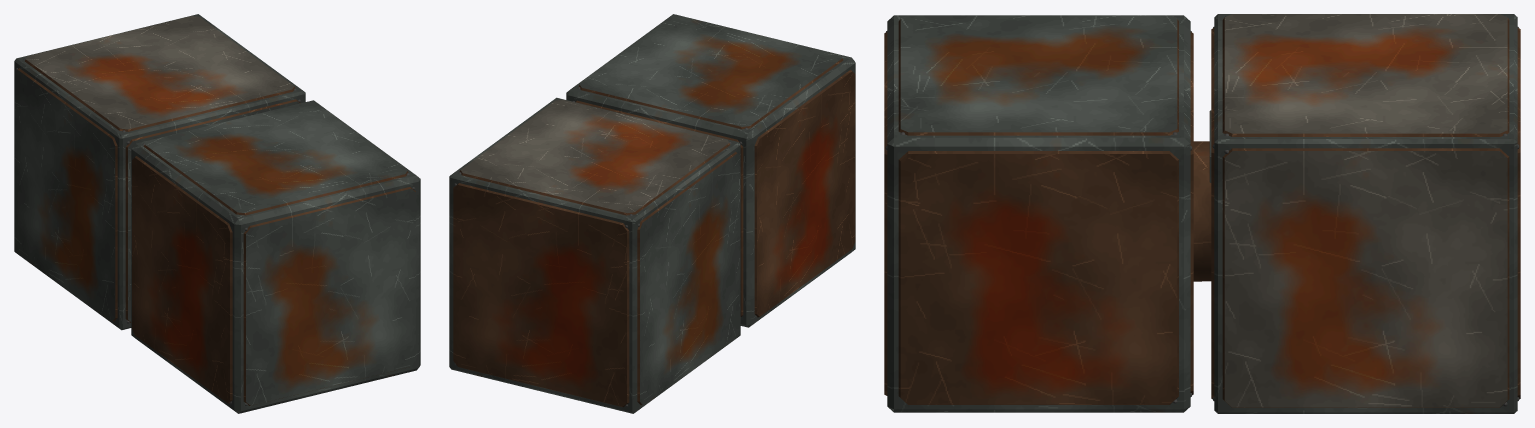
The model's file is R4C_STRUT_SHORT.glb.
The picture shows the model from 3 angles, left to right: view 1: azimuth 30°, elevation 25°; view 2: azimuth 150°, elevation 25°; view 3: azimuth 270°, elevation 25°; orthographic projection. The views are drawn at different scales.
Visible parts, largest first — view 1: R4C_STRUT_SHORT; view 2: R4C_STRUT_SHORT; view 3: R4C_STRUT_SHORT.
Boxes of the visible parts, x1=… form: R4C_STRUT_SHORT: x1=14, y1=14, x2=420, y2=413; R4C_STRUT_SHORT: x1=449, y1=14, x2=855, y2=413; R4C_STRUT_SHORT: x1=884, y1=14, x2=1520, y2=413.
Bounding box in the file's own units: 0.52 × 0.52 × 1.07.
Materials: 4 (4 with a texture image).
